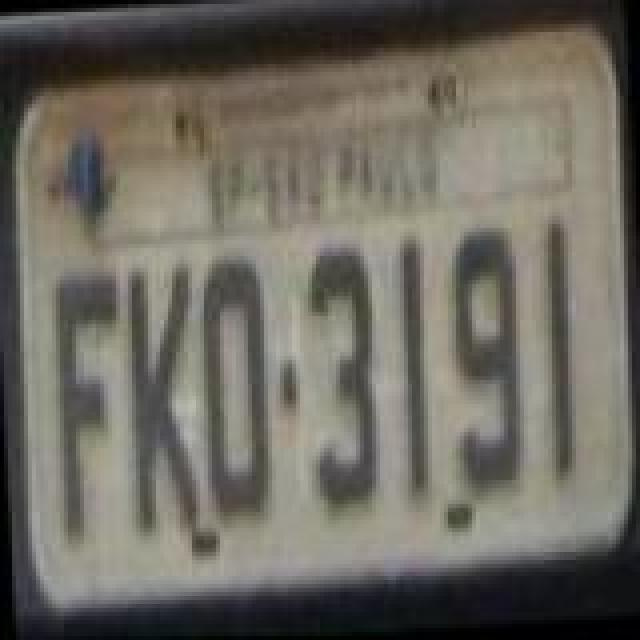1: (540, 214, 580, 486), (396, 234, 436, 498)
3: (306, 246, 386, 514)
9: (446, 226, 530, 494)
F: (50, 268, 130, 536)
K: (122, 258, 202, 534)
O: (198, 256, 278, 528)
